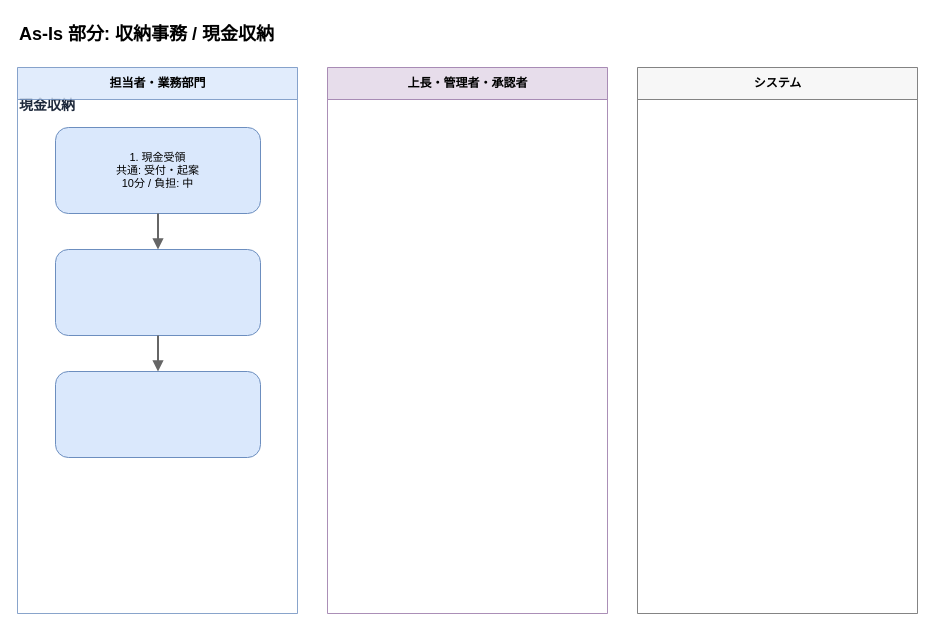
The diagram is 935 pixels wide and 631 high, and some of its shapes have lost their labels. Each missing label, with the box of its shape:
2. 領収書発行 共通: 計算・作成 10分 / 負担: 中: (54, 248, 260, 336)
3. 預入処理 共通: 実行・支払 20分 / 負担: 中: (54, 370, 260, 458)
